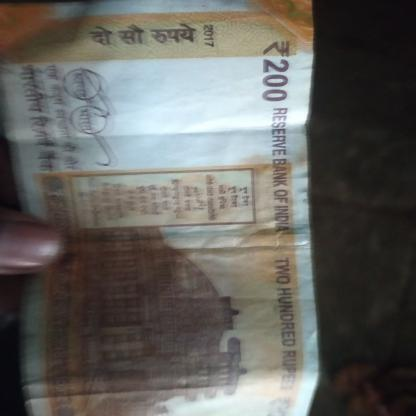New200Back: (0, 3, 303, 415)
